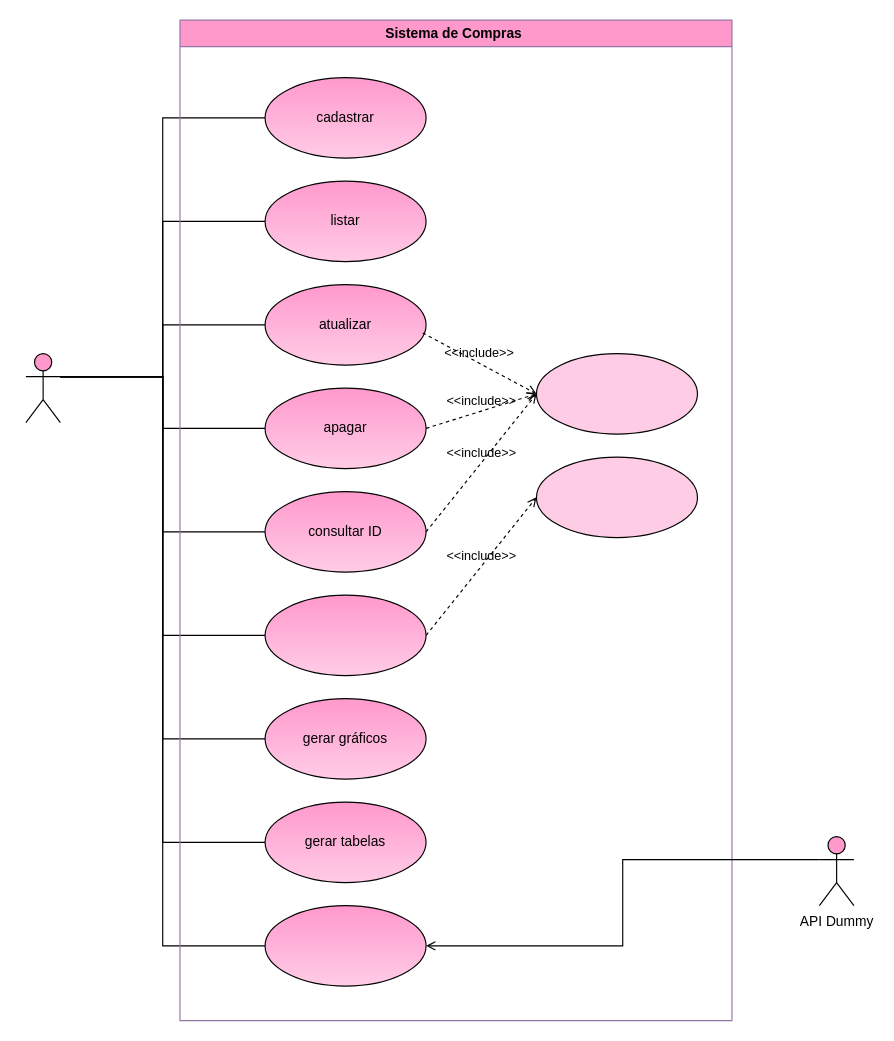
Image size: 894x1041. Some labels were removed from this diagram. Here are the shapes that lost their labels. From the top down, the centre of each, then its label:
(42,387): Usuário
(616,393): verificar ID
(616,497): verificar nome
(345,635): consultar nome
(345,945): cadastrar em lote
